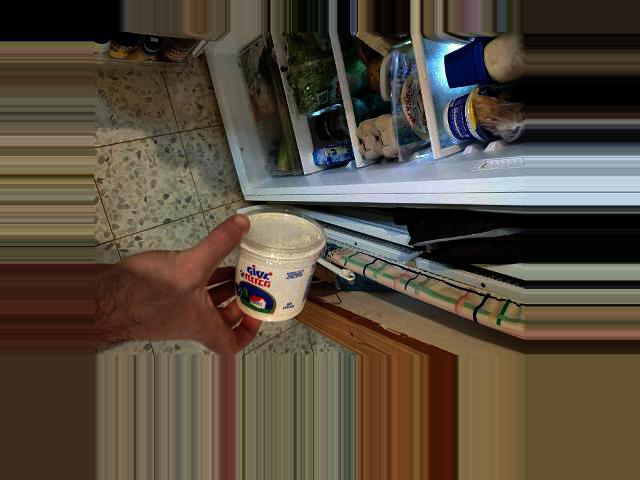cotage: (217, 207, 328, 325)
